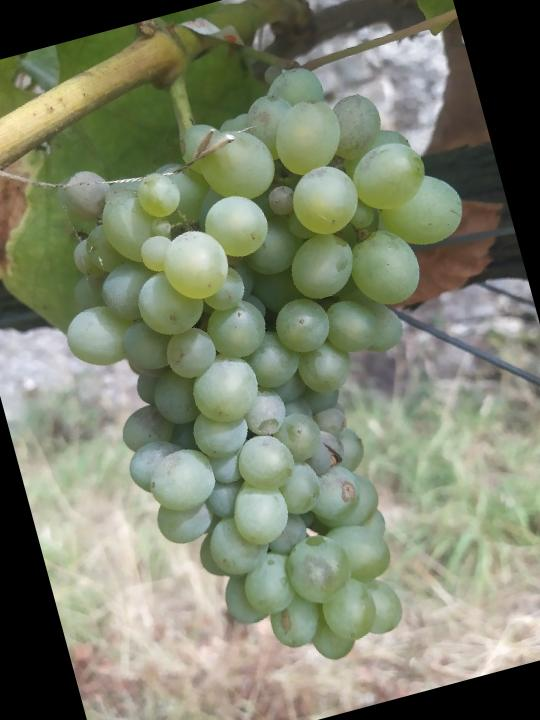grape: (7, 34, 540, 712)
